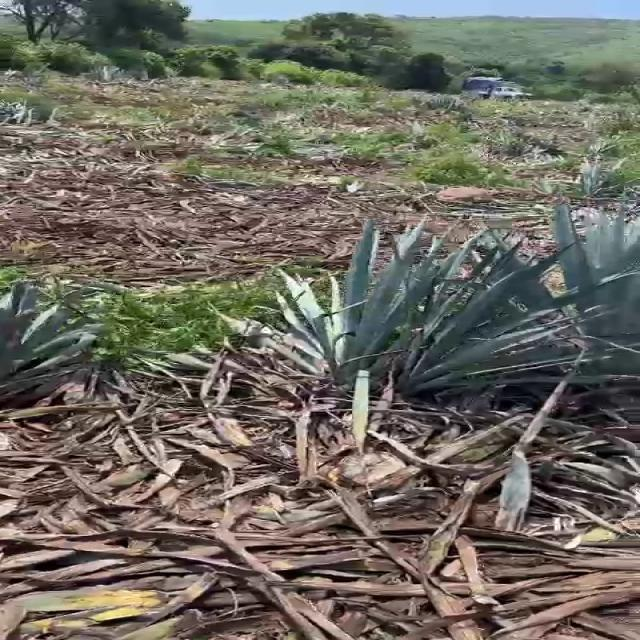agave: (243, 239, 507, 418), (442, 209, 640, 421), (0, 276, 114, 429)
